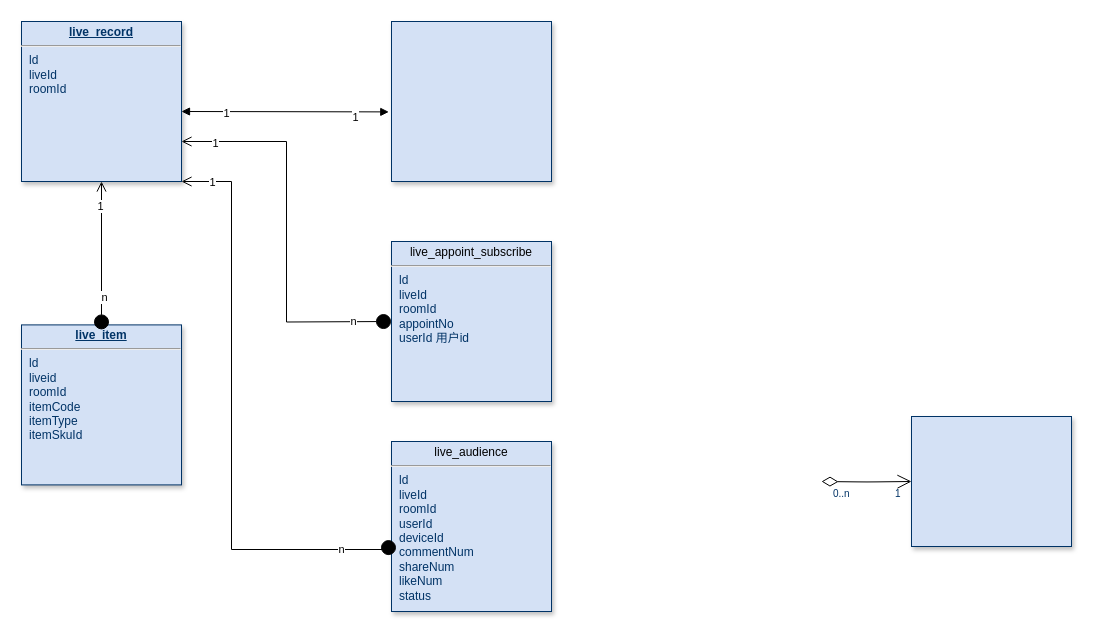
Image size: 1095x636. Some labels were removed from this diagram. Each missing label, with the centre of its shape:
"live_appoint ld liveId roomId appointNo userId 主播id" goes at (x=472, y=102).
"TimeCategory IdTimeCategory Name Description CreatedAt UpdatedAt Enabled" goes at (x=992, y=483).
